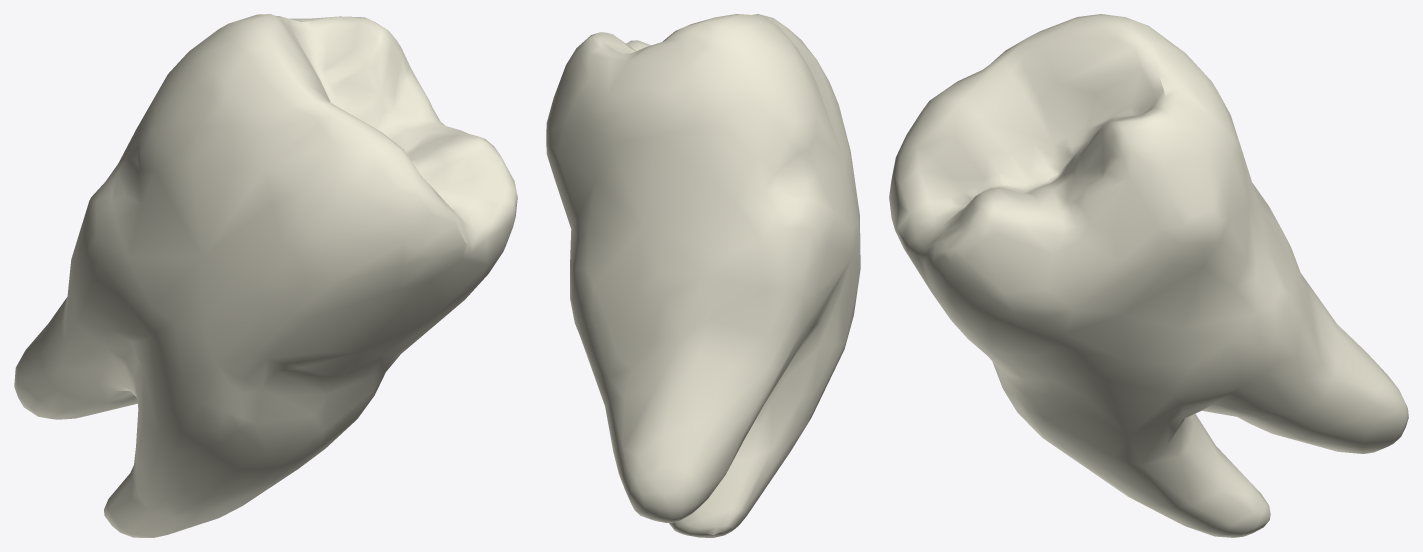
File: Right second lower molar tooth.fbx
The picture shows the model from 3 angles, left to right: view 1: azimuth 30°, elevation 25°; view 2: azimuth 150°, elevation 25°; view 3: azimuth 270°, elevation 25°; orthographic projection. The views are drawn at different scales.
Parts seen in each view (by area): view 1: Right second lower molar tooth; view 2: Right second lower molar tooth; view 3: Right second lower molar tooth.
Part boxes in pixels (x1,y1,x2,y2): Right second lower molar tooth: (14, 14, 517, 537); Right second lower molar tooth: (546, 14, 860, 537); Right second lower molar tooth: (889, 14, 1408, 537).
Bounding box in the file's own units: 1.61 × 2.49 × 2.2.
